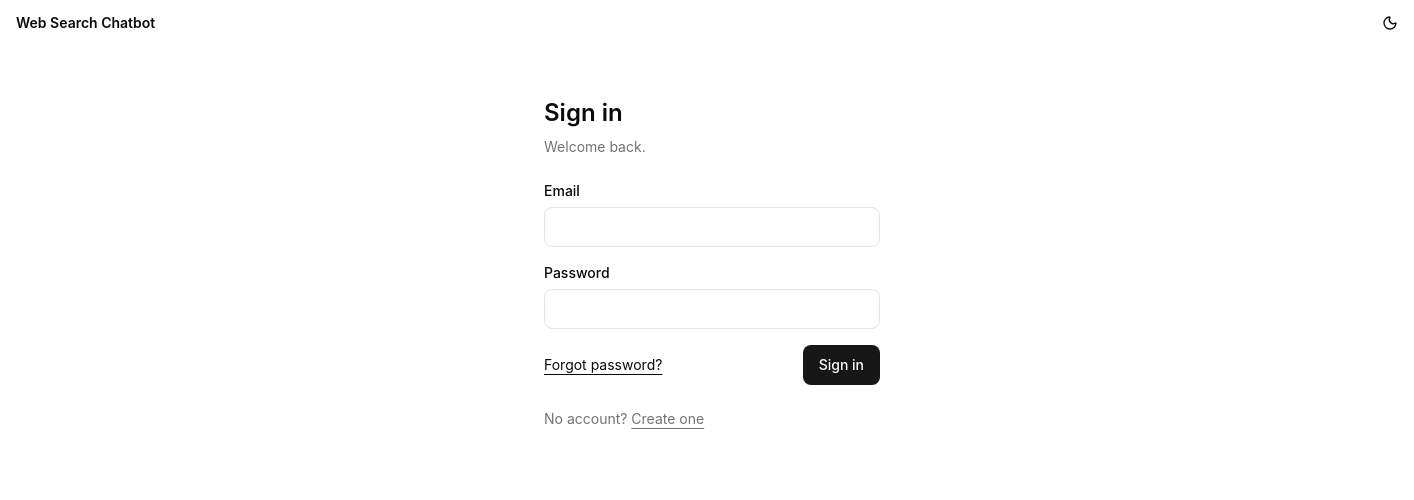
Test case: sign-in form › shows the server message when credentials are wrong
Expected: the heading "Sign in" is shown, [544,98,623,127]
Type "user@example.com" into the field labelled "Email" at (712, 227), box [544,207,880,247]
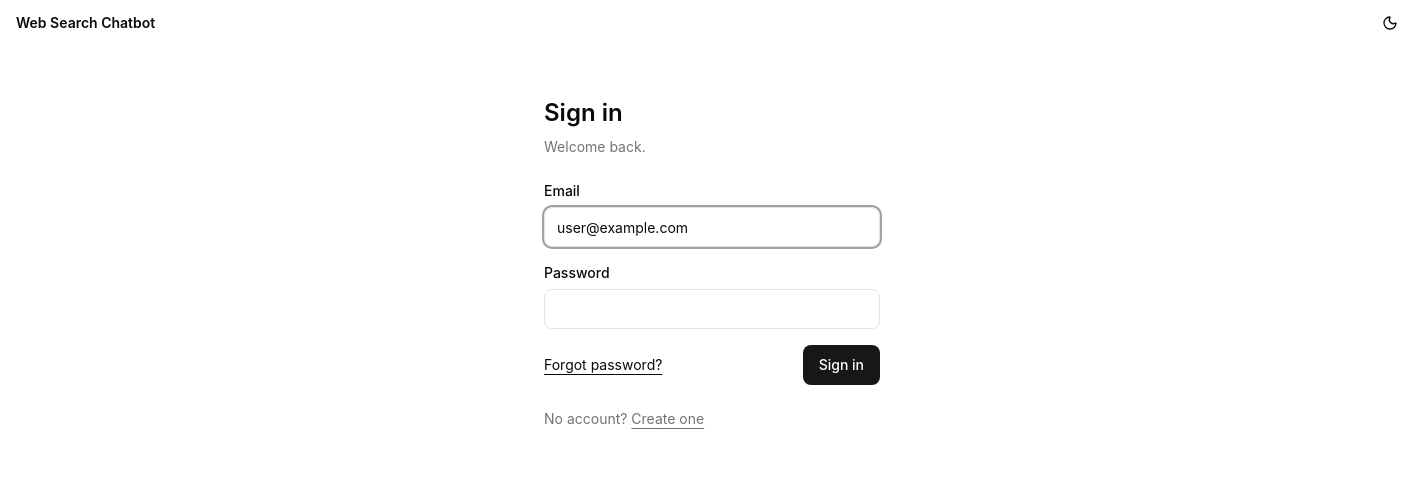
Type "wrong-password-entirely" into the password field labelled "Password" at (712, 309), box [544,289,880,329]
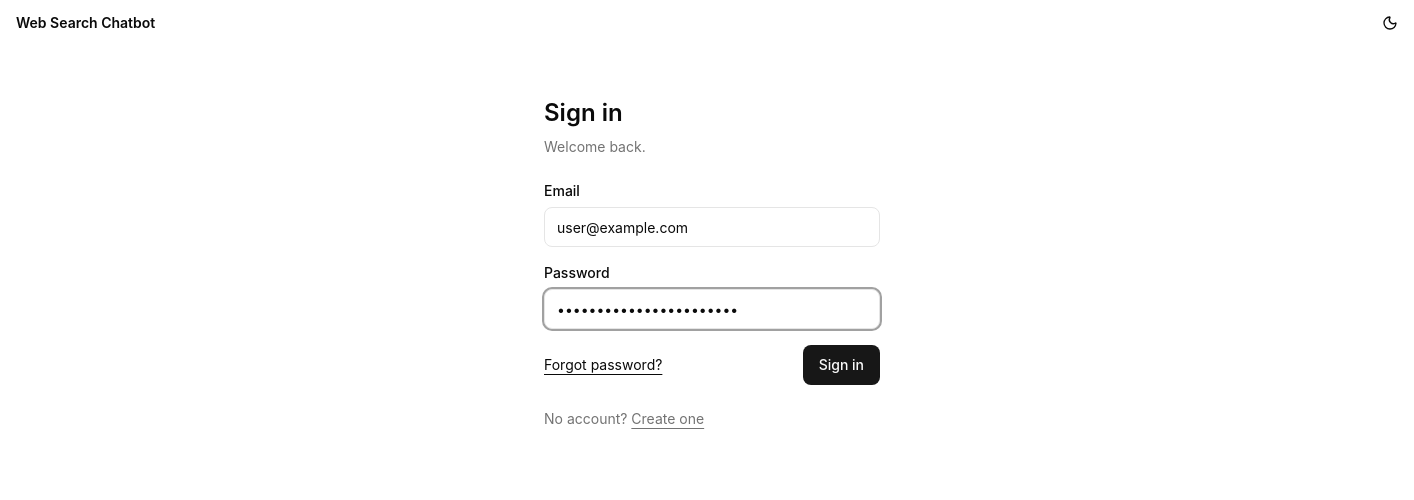
Click the button "Sign in" at (841, 365), box [803,345,880,385]
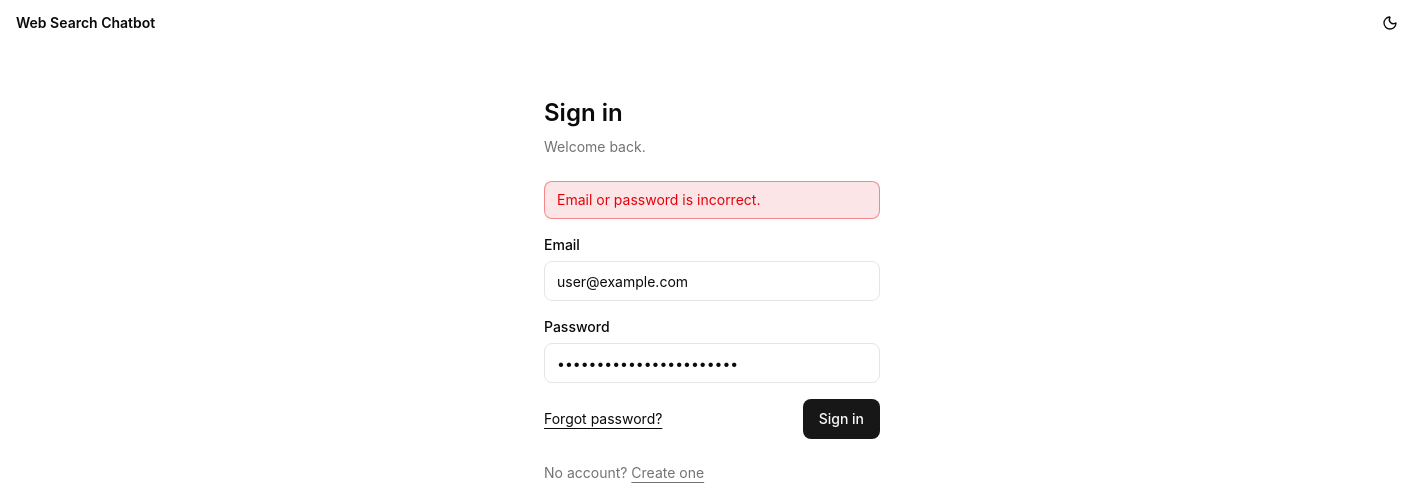
Expected: the message shows "Email or password is incorrect", [557,191,760,208]
